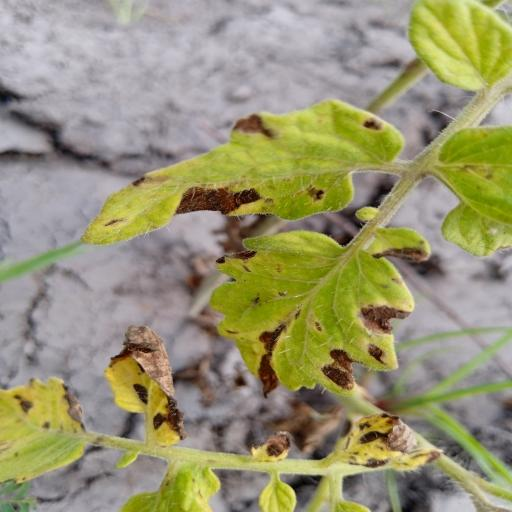Tomato_Brown_Spots: (81, 95, 404, 251), (201, 224, 435, 398)
